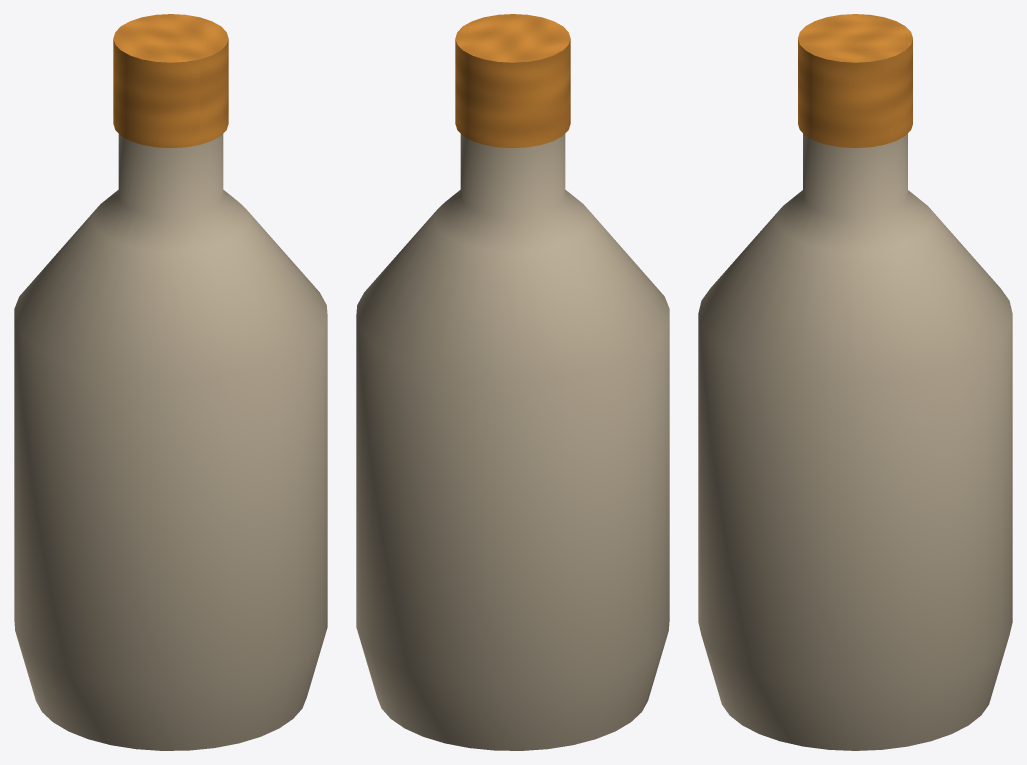
File: fps-weapon-set-and-firing-range-gun-oil-bottle-492d40bd__19540.glb
3 views of the same model, side by side, from view 1: azimuth 30°, elevation 25°; view 2: azimuth 150°, elevation 25°; view 3: azimuth 270°, elevation 25° (orthographic).
Parts seen in each view (by area): view 1: gun-oil-bottle; view 2: gun-oil-bottle; view 3: gun-oil-bottle.
Boxes of the visible parts, left/top/right/bottom form: gun-oil-bottle: left=14, top=14, right=327, bottom=750; gun-oil-bottle: left=356, top=14, right=669, bottom=750; gun-oil-bottle: left=698, top=14, right=1012, bottom=750.
Bounding box in the file's own units: 0.06 × 0.138 × 0.06.
2 materials, 1 textured.
